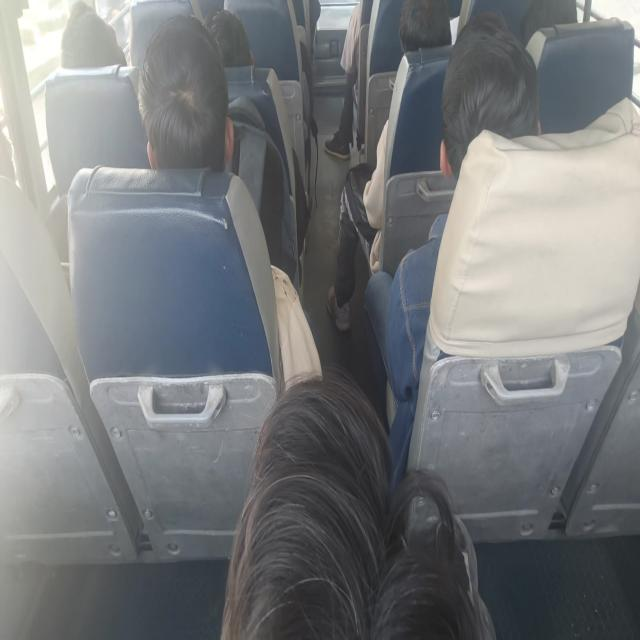person: (363, 13, 541, 493), (219, 365, 496, 638), (136, 12, 322, 389), (326, 0, 452, 332), (137, 13, 234, 171), (326, 118, 389, 332), (324, 1, 363, 160), (60, 1, 127, 68), (398, 0, 452, 54), (205, 8, 254, 67)
